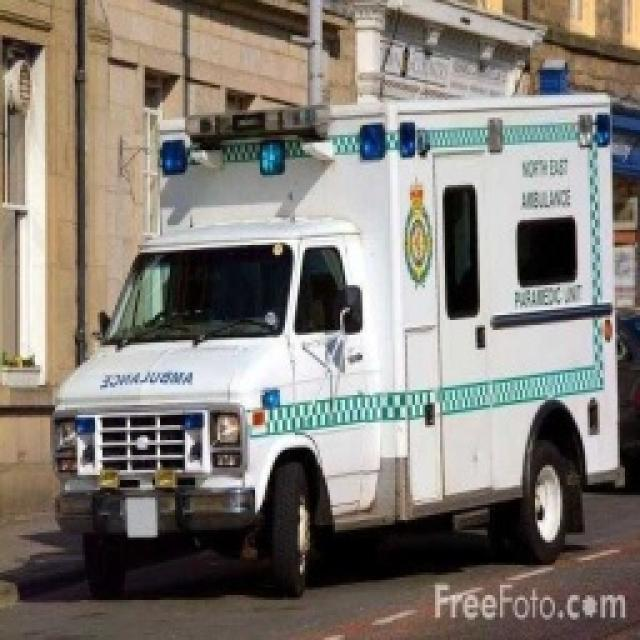emergency-vehicle: (10, 69, 640, 640)
